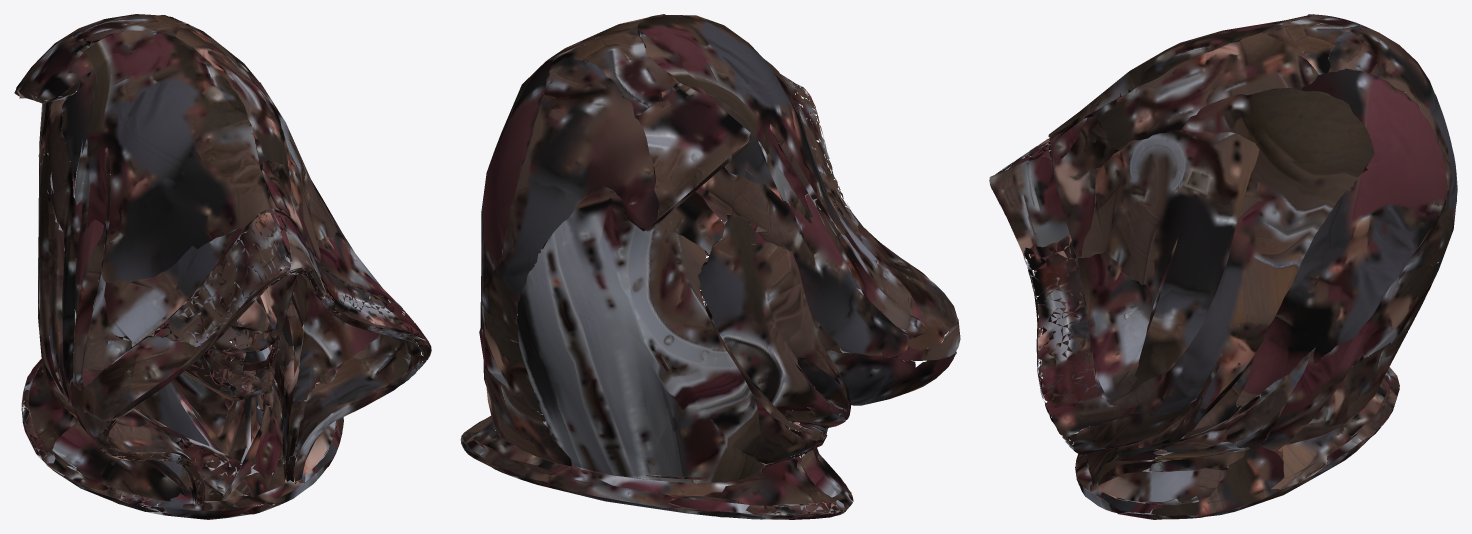
Rendered from VidaMago.fbx.
3 renders of one model, left to right at view 1: azimuth 30°, elevation 25°; view 2: azimuth 150°, elevation 25°; view 3: azimuth 270°, elevation 25°, orthographic. The views are drawn at different scales.
Visible parts, largest first — view 1: VidaMago; view 2: VidaMago; view 3: VidaMago.
Part boxes in pixels (box(x1,y1,x2,y2)): VidaMago: box(14, 14, 431, 519); VidaMago: box(460, 14, 960, 519); VidaMago: box(989, 14, 1457, 519).
Size of the model in its own units: 86.69 by 104 by 97.82.
